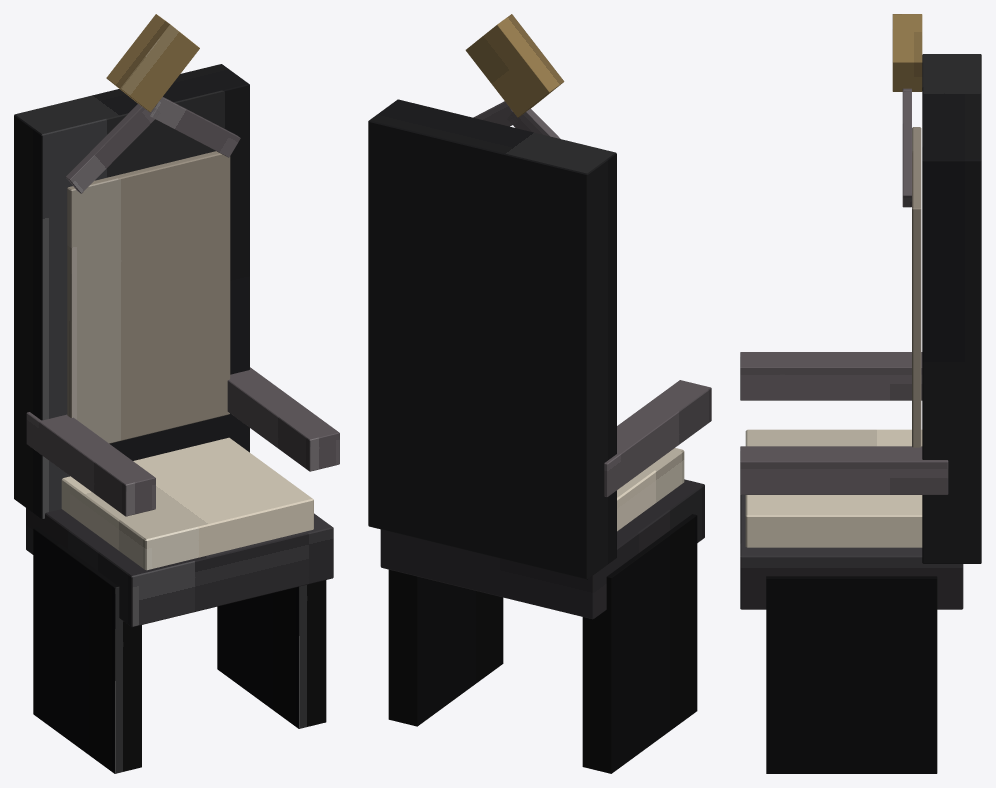
The model's file is gothic_highback_chair_ivory.glb.
The picture shows the model from 3 angles, left to right: view 1: azimuth 30°, elevation 25°; view 2: azimuth 150°, elevation 25°; view 3: azimuth 270°, elevation 25°; orthographic projection. The views are drawn at different scales.
Parts seen in each view (by area): view 1: VelvetBack, TallBack, ChairLeg-0.3, VelvetSeat, ChairSeat, ChairLeg0.3, ChairArm-0.3, ChairArm0.3, ChairCrest, ChairArchLeft, ChairArchRight; view 2: TallBack, ChairLeg-0.3, ChairLeg0.3, ChairSeat, ChairArm-0.3, ChairCrest, VelvetSeat, ChairArchLeft, ChairArchRight; view 3: ChairLeg0.3, TallBack, VelvetSeat, ChairArm0.3, ChairArm-0.3, ChairSeat, VelvetBack, ChairCrest, ChairArchRight.
Part boxes in pixels (<box>): VelvetBack: <box>67,151,230,443</box>; TallBack: <box>14,64,249,519</box>; ChairLeg-0.3: <box>33,527,141,773</box>; VelvetSeat: <box>61,437,313,570</box>; ChairSeat: <box>26,508,333,627</box>; ChairLeg0.3: <box>217,580,326,728</box>; ChairArm-0.3: <box>26,412,155,516</box>; ChairArm0.3: <box>227,367,339,471</box>; ChairCrest: <box>106,14,199,112</box>; ChairArchLeft: <box>66,103,160,193</box>; ChairArchRight: <box>150,97,240,157</box>; TallBack: <box>368,99,616,579</box>; ChairLeg-0.3: <box>582,514,697,773</box>; ChairLeg0.3: <box>388,569,503,726</box>; ChairSeat: <box>380,479,704,619</box>; ChairArm-0.3: <box>604,380,711,497</box>; ChairCrest: <box>465,14,564,117</box>; VelvetSeat: <box>617,448,684,531</box>; ChairArchLeft: <box>507,108,560,138</box>; ChairArchRight: <box>473,101,517,126</box>; ChairLeg0.3: <box>766,576,937,773</box>; TallBack: <box>922,54,981,563</box>; VelvetSeat: <box>745,429,922,547</box>; ChairArm0.3: <box>740,446,948,494</box>; ChairArm-0.3: <box>740,352,922,400</box>; ChairSeat: <box>740,495,963,609</box>; VelvetBack: <box>912,127,921,447</box>; ChairCrest: <box>892,14,922,91</box>; ChairArchRight: <box>902,91,911,207</box>.
Bounding box in the file's own units: 0.7 × 2.11 × 0.65.
1 material, 1 textured.
